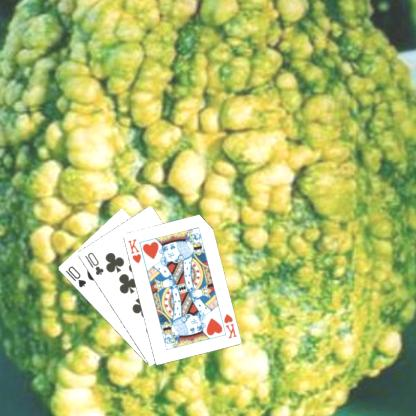10C: (81, 249, 105, 276)
10S: (62, 263, 88, 289)
KH: (221, 310, 238, 340), (125, 236, 142, 264)
